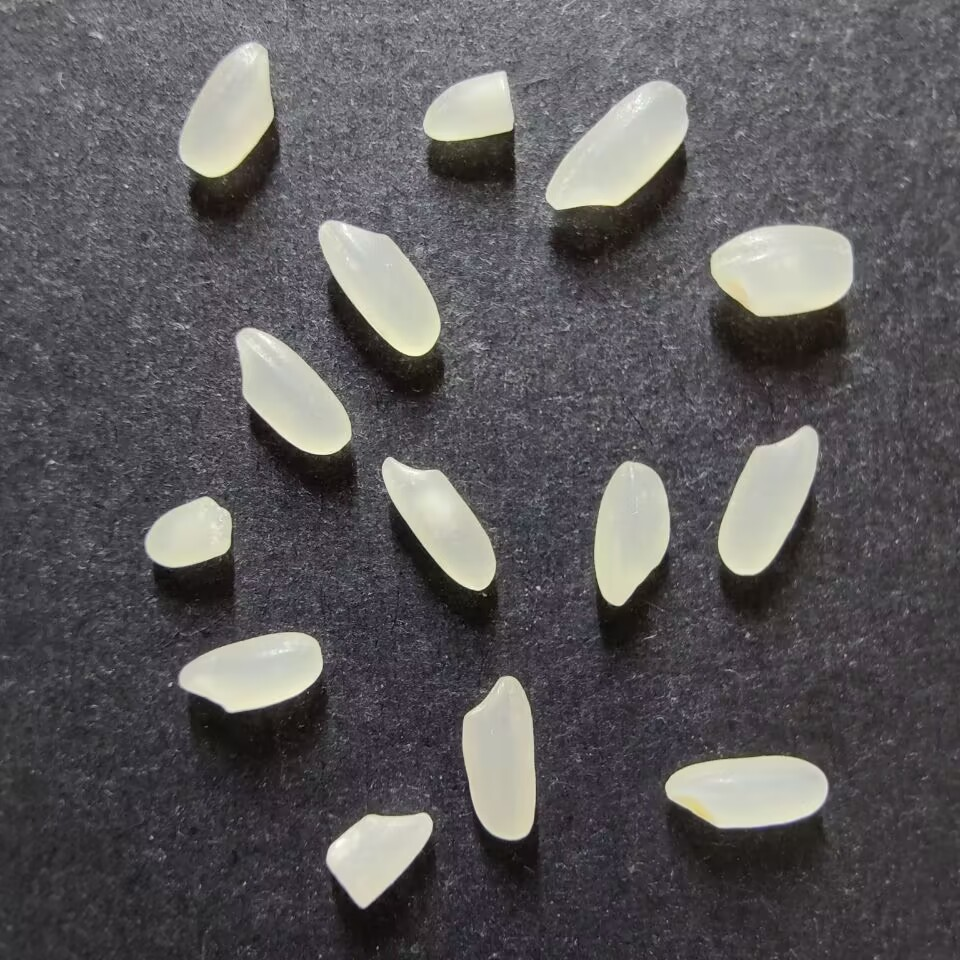broken: (323, 811, 433, 909), (421, 70, 514, 142), (144, 496, 232, 568)
rice: (544, 80, 688, 209), (316, 218, 440, 357), (716, 425, 820, 577), (381, 456, 497, 592), (234, 327, 352, 456), (709, 224, 853, 317), (178, 41, 274, 178), (460, 675, 536, 840), (177, 631, 323, 713), (664, 755, 828, 828), (593, 461, 670, 607)
